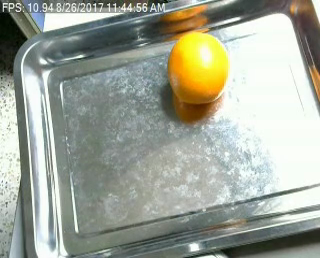Orange: (166, 30, 230, 103)
